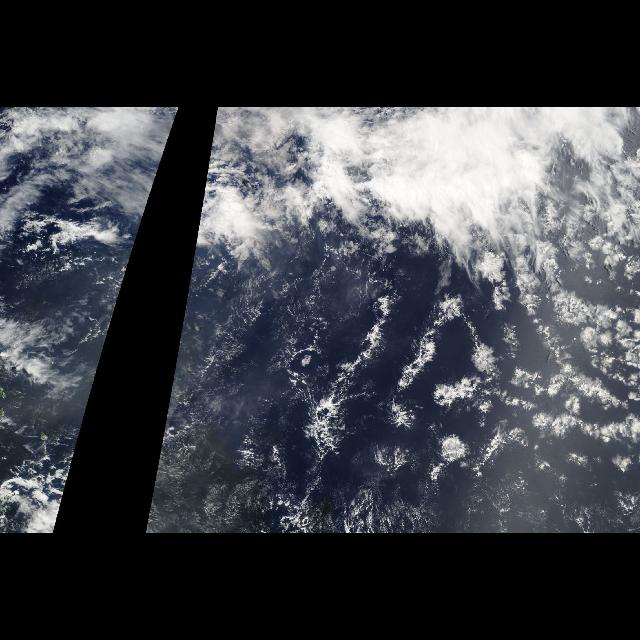Fish: (274, 260, 446, 472)
Flower: (400, 258, 640, 487)
